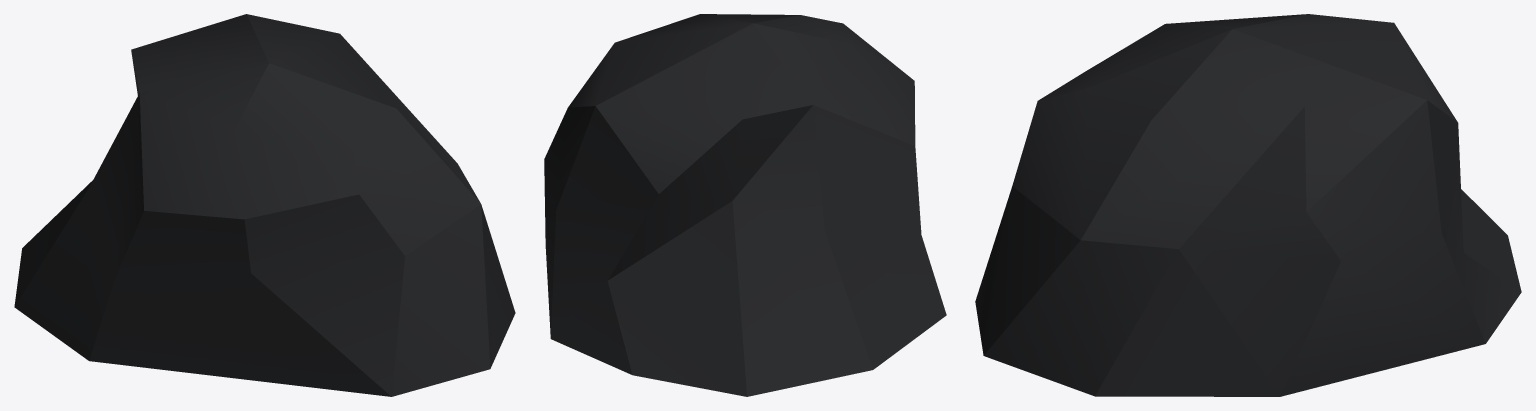
Rendered from Rock_6.fbx.
3 views of the same model, side by side, from view 1: azimuth 30°, elevation 25°; view 2: azimuth 150°, elevation 25°; view 3: azimuth 270°, elevation 25° (orthographic). The views are drawn at different scales.
Visible parts, largest first — view 1: Rock_6; view 2: Rock_6; view 3: Rock_6.
Boxes of the visible parts, box(x1,y1,x2,y2) form: Rock_6: box(14, 14, 515, 396); Rock_6: box(544, 14, 946, 396); Rock_6: box(975, 14, 1521, 396).
Size of the model in its own units: 34.48 by 22.06 by 40.45.
